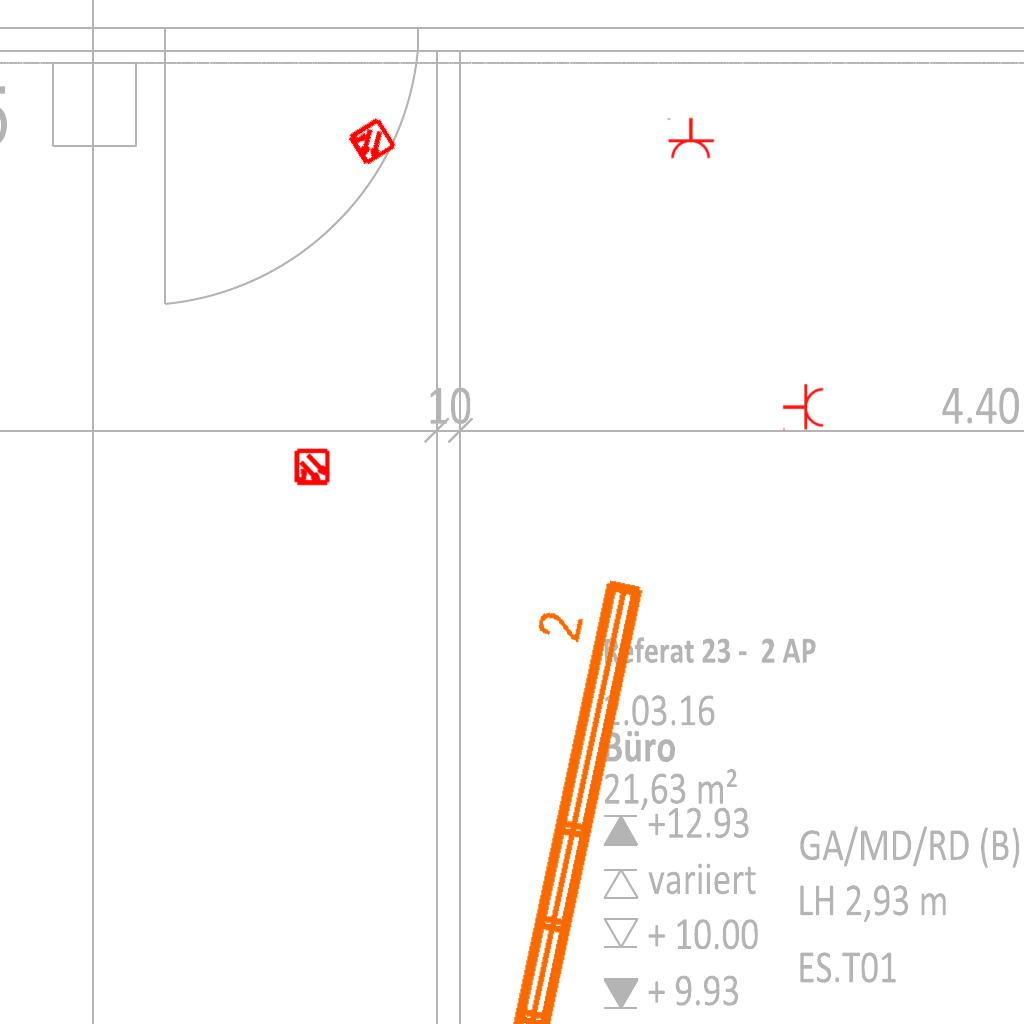Ambulanz_Pendelleuchte_LED: (386, 557, 658, 1024)
OT_Multisensormelder_(Kombination_RMO_WMD): (332, 103, 410, 181), (284, 440, 340, 496)
Schukosteckdose_einfach: (782, 383, 825, 433), (665, 117, 715, 160)
